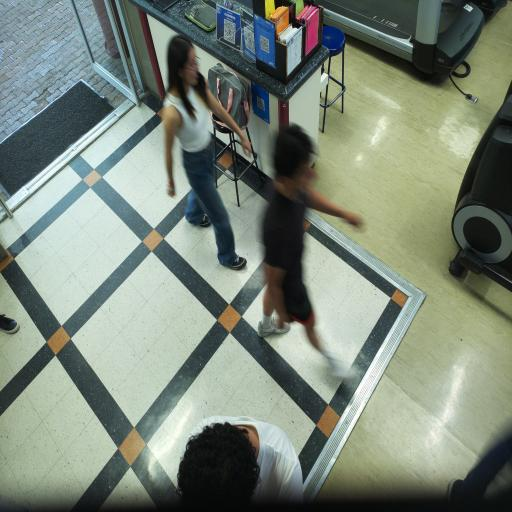person: (258, 126, 361, 378), (164, 36, 250, 270), (178, 416, 303, 505), (448, 434, 511, 502), (0, 315, 19, 333)
